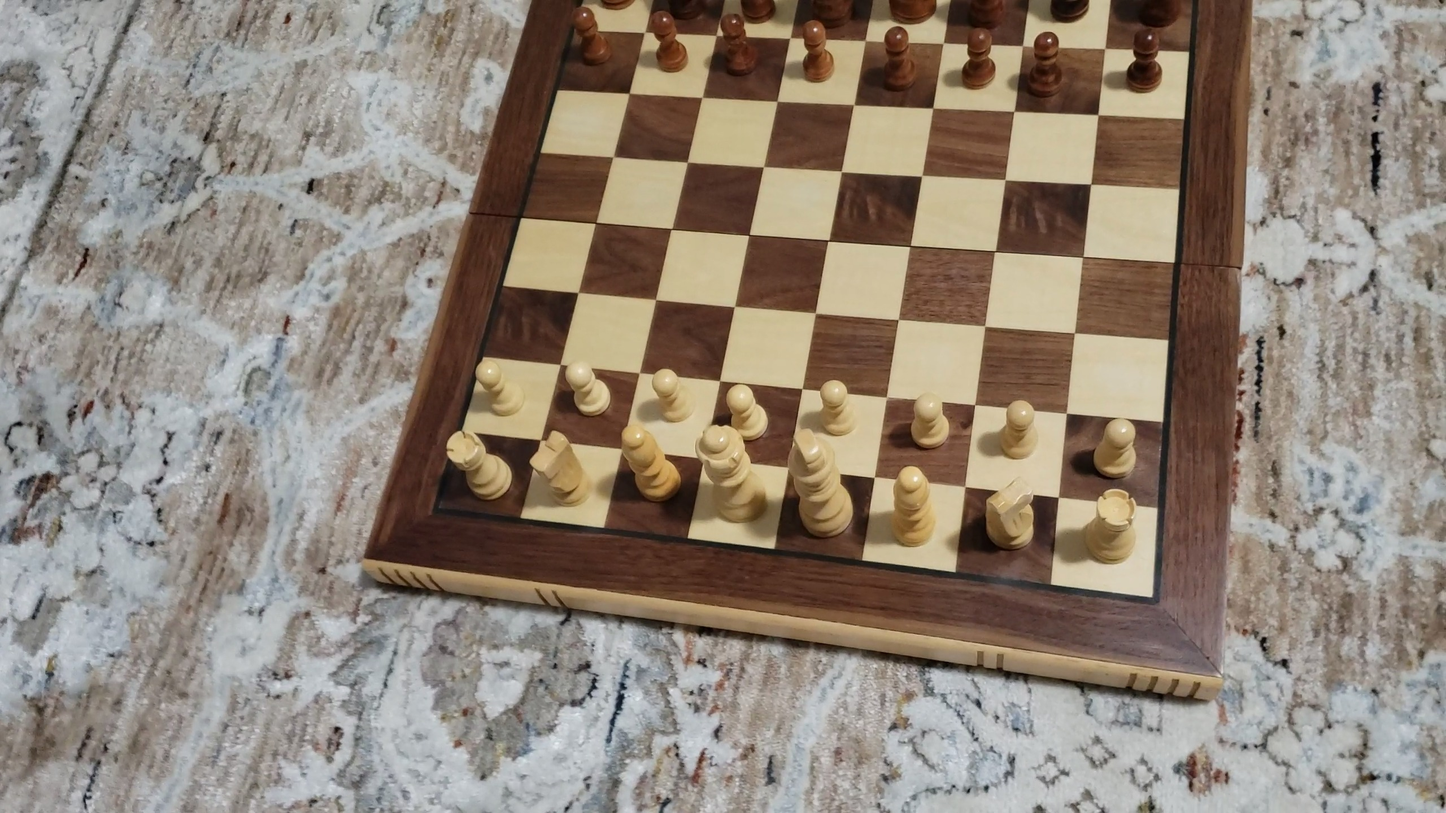black-pawn: (1125, 27, 1165, 94), (1025, 29, 1063, 99), (648, 8, 687, 73), (716, 11, 755, 76), (882, 24, 916, 93), (572, 4, 609, 67), (961, 25, 996, 91), (800, 18, 832, 83)
white-bishop: (618, 423, 684, 506), (888, 463, 940, 551)
white-king: (786, 426, 856, 541)
white-knight: (527, 429, 592, 509), (979, 473, 1038, 556)
white-pawn: (1090, 413, 1143, 482), (471, 357, 528, 421), (561, 358, 612, 419), (996, 396, 1040, 462), (907, 391, 953, 452), (724, 381, 769, 441), (815, 375, 855, 437), (649, 364, 689, 425)
white-queen: (693, 423, 773, 529)
white-rook: (443, 429, 516, 504), (1080, 486, 1142, 569)
